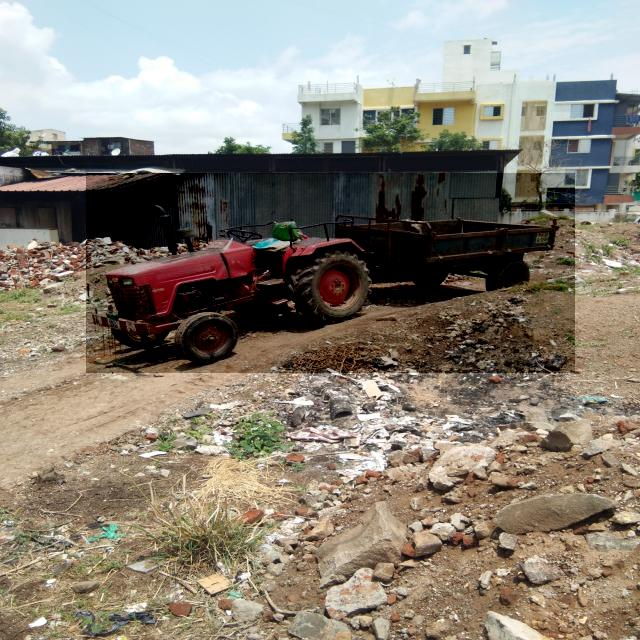Tractot: (86, 174, 575, 374)
